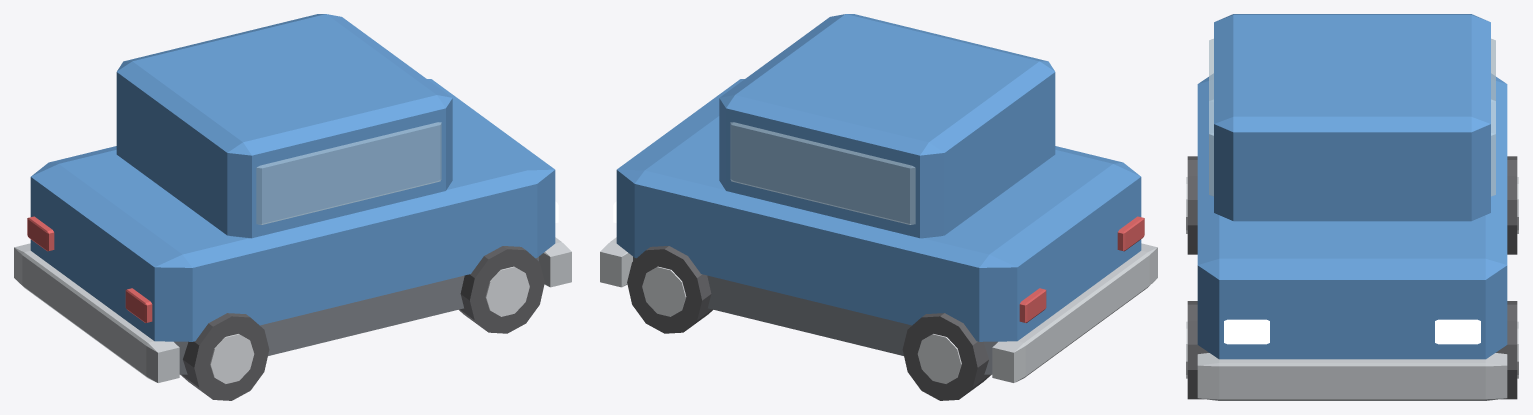
Rendered from b03_two_seat_microcar.glb.
3 renders of one model, left to right at view 1: azimuth 30°, elevation 25°; view 2: azimuth 150°, elevation 25°; view 3: azimuth 270°, elevation 25°, orthographic. The views are drawn at different scales.
Parts seen in each view (by area): view 1: b03_two_seat_microcar; view 2: b03_two_seat_microcar; view 3: b03_two_seat_microcar.
Part boxes in pixels (bbox=[...]): b03_two_seat_microcar: bbox=[14, 14, 571, 400]; b03_two_seat_microcar: bbox=[600, 14, 1157, 400]; b03_two_seat_microcar: bbox=[1186, 14, 1518, 400].
Bounding box in the file's own units: 2.87 × 1.54 × 1.84.
